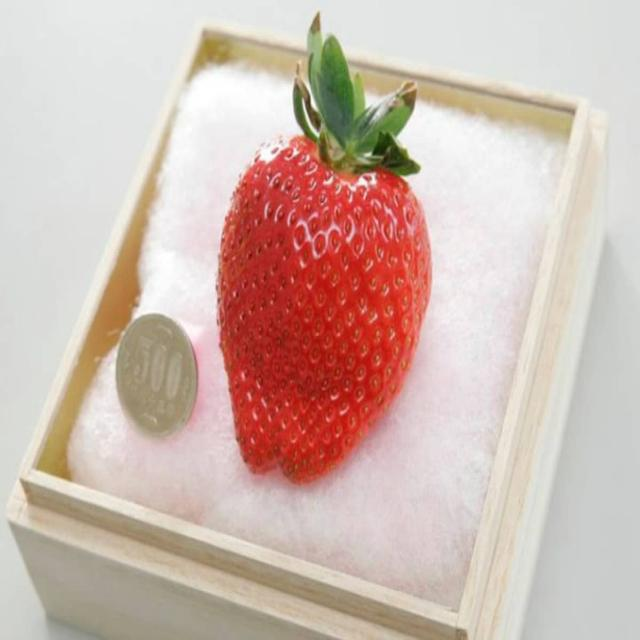strawberry: (194, 45, 462, 502)
